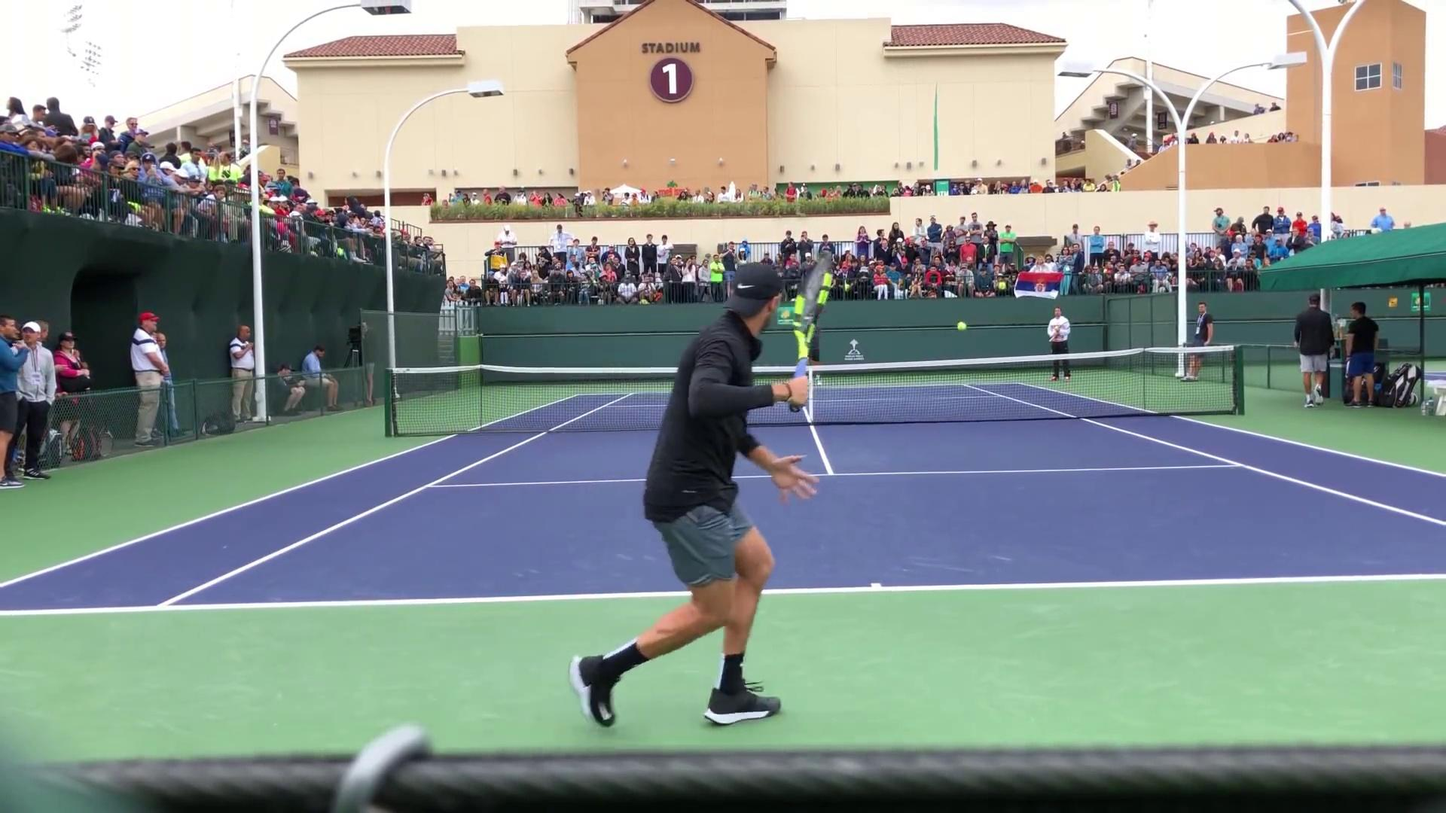ball: (955, 321, 969, 331)
